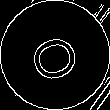O_E: (23, 25, 87, 85)
